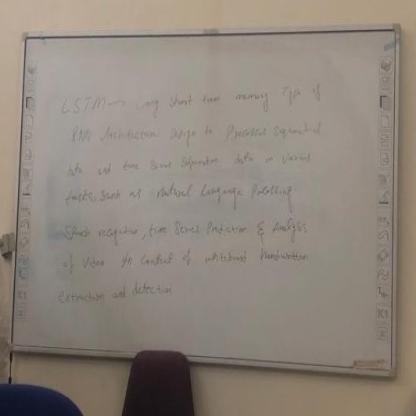Handwritten text: (56, 76, 331, 119), (48, 175, 309, 214), (59, 143, 324, 180), (63, 116, 329, 150), (52, 216, 317, 247), (63, 242, 321, 273), (45, 277, 181, 324)
Whiteboard: (9, 18, 400, 373)
